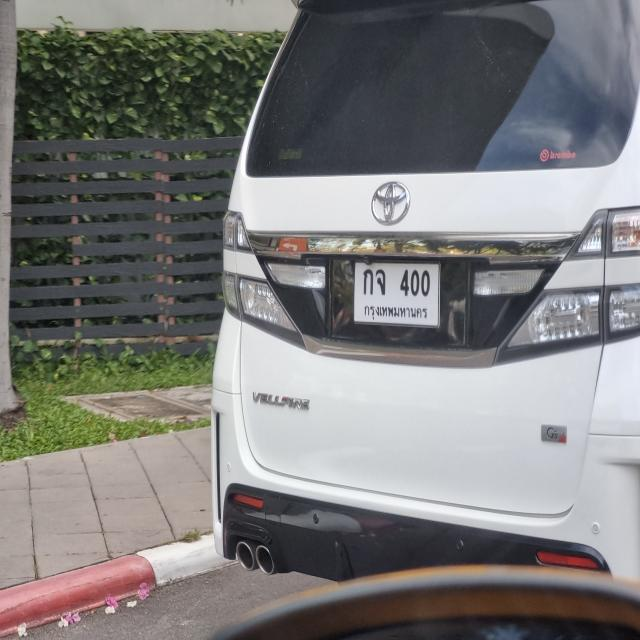license_plate: (353, 257, 441, 325)
